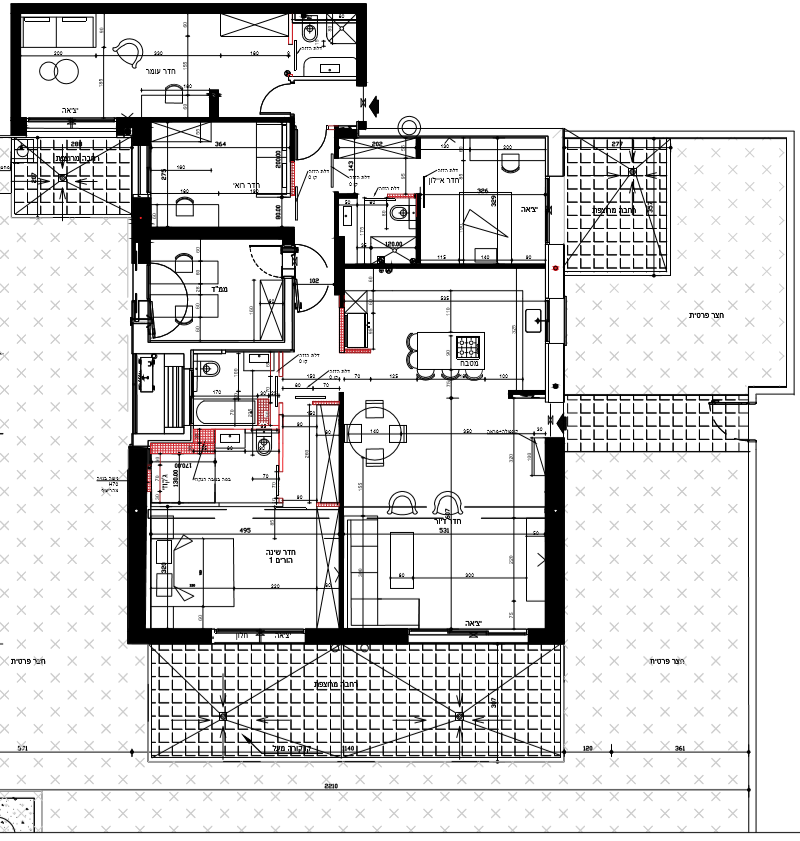door: (252, 79, 287, 115), (246, 241, 280, 276), (295, 286, 324, 322), (296, 133, 328, 165)
wall: (128, 447, 148, 641), (3, 4, 371, 13), (546, 437, 562, 638), (134, 228, 284, 235), (318, 629, 397, 640), (336, 264, 541, 268), (340, 392, 343, 641), (270, 226, 295, 245), (336, 238, 343, 288), (335, 193, 338, 236)
window: (404, 623, 539, 648), (207, 625, 313, 649)
